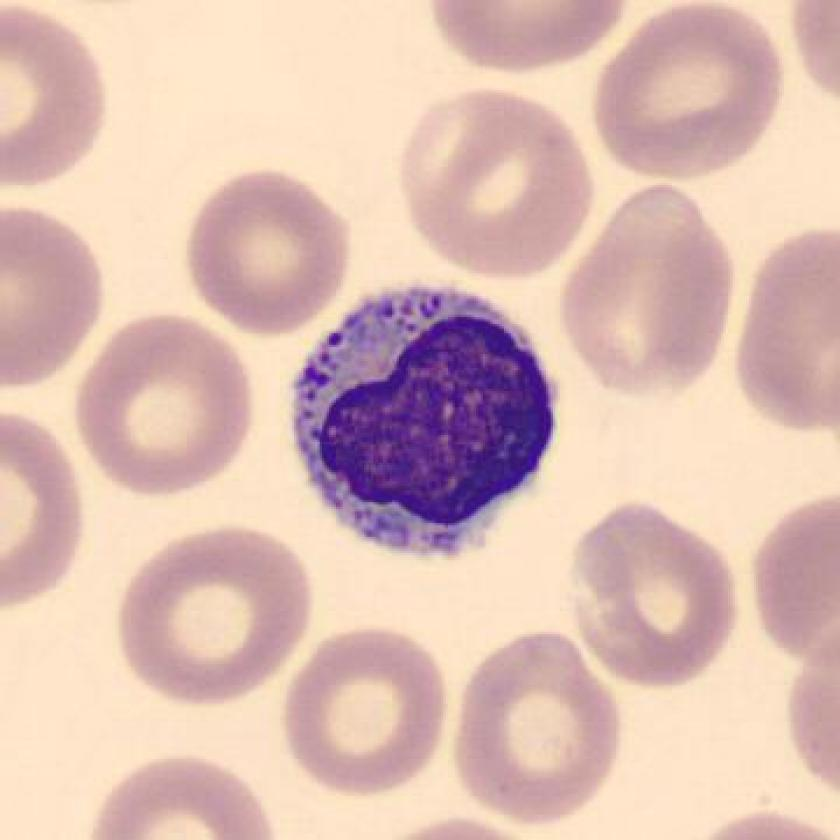lymphocyte: (279, 272, 575, 575)
